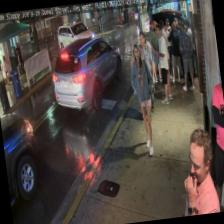person: (125, 40, 161, 154), (174, 126, 220, 215), (134, 30, 160, 119), (151, 24, 173, 103)
